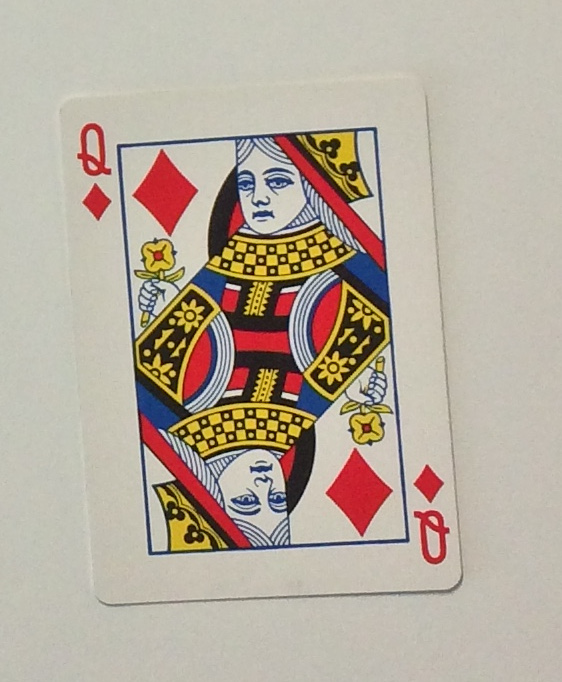D: (77, 180, 115, 229)
Q: (61, 106, 117, 182)
